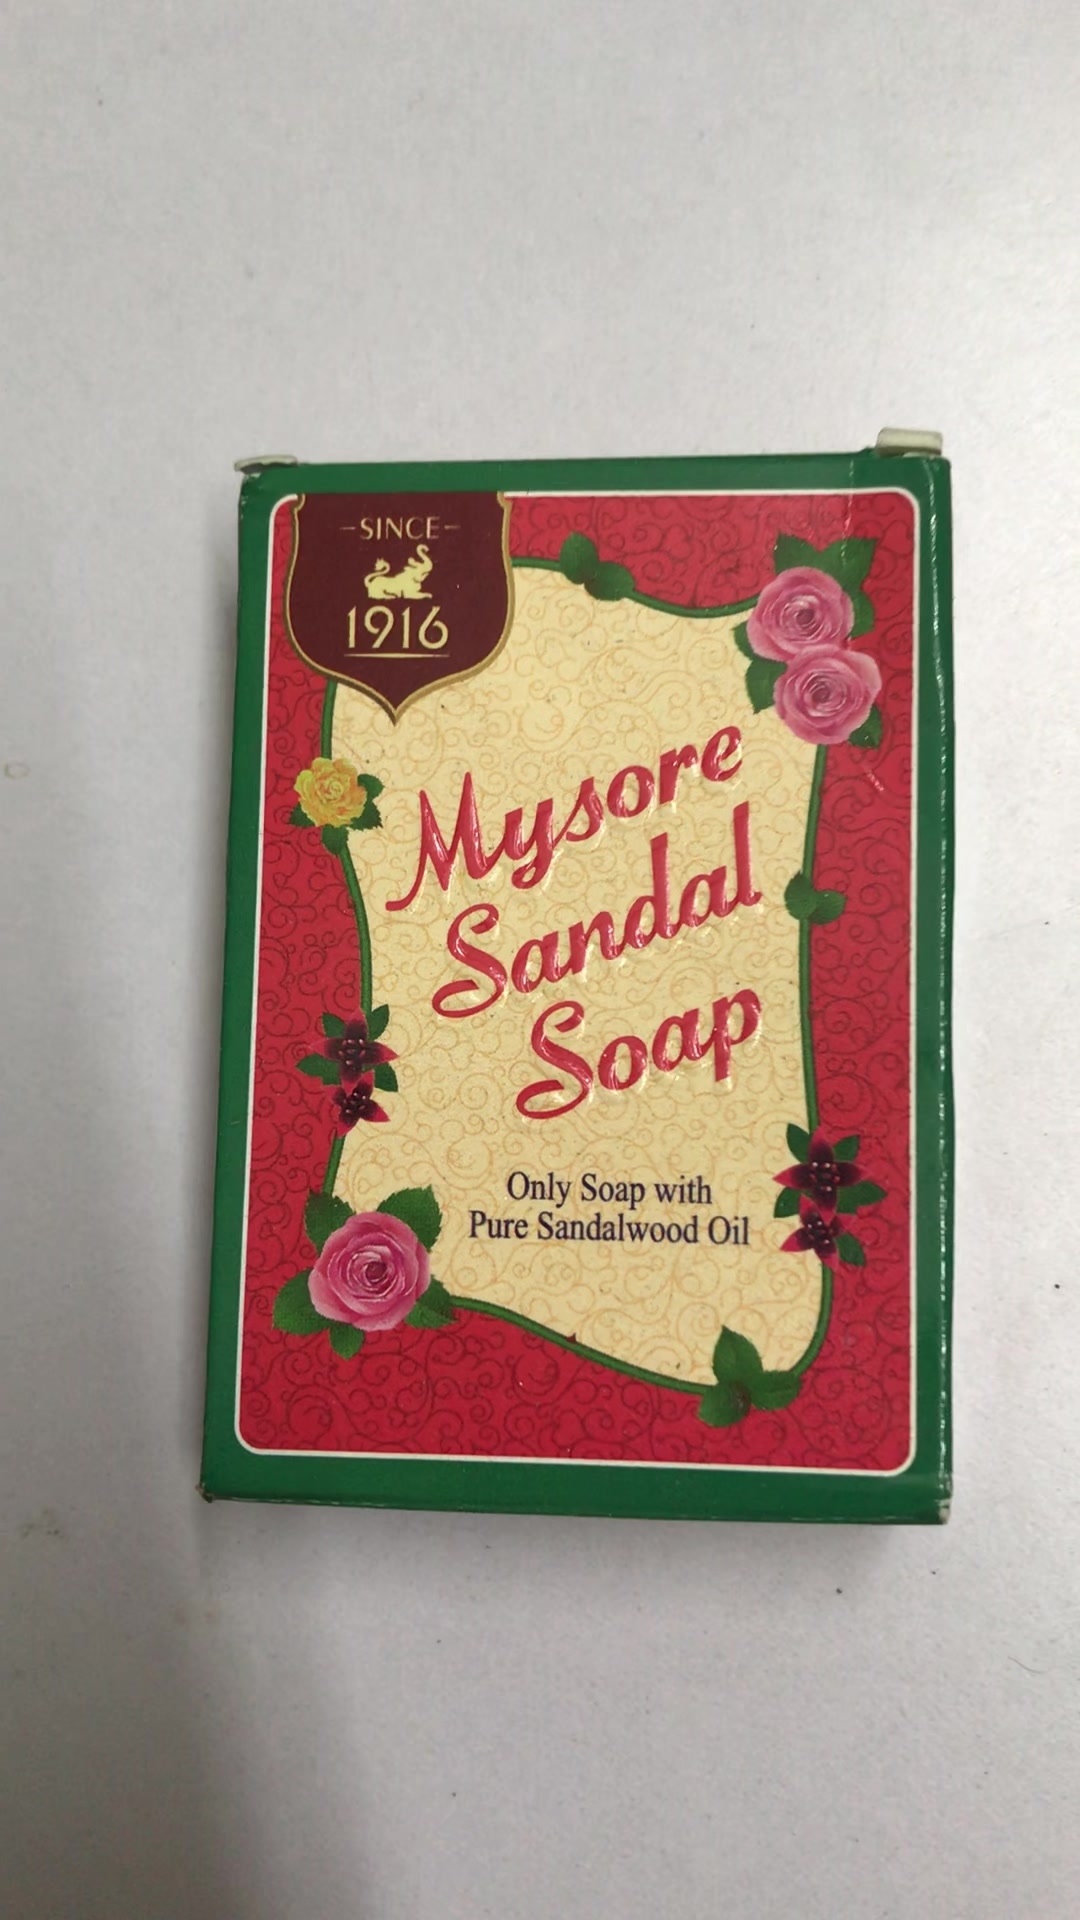mysore sandal soap: (203, 458, 949, 1520)
